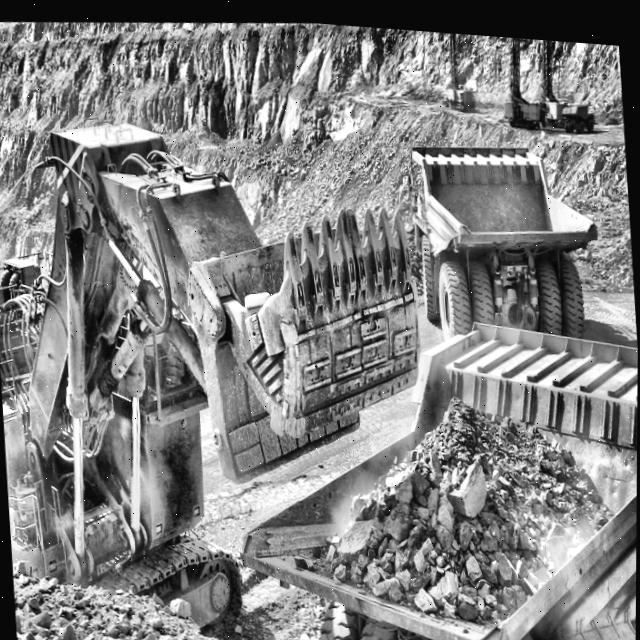dump_truck: (354, 292, 638, 640), (398, 104, 607, 327)
excavator: (0, 78, 432, 640)
